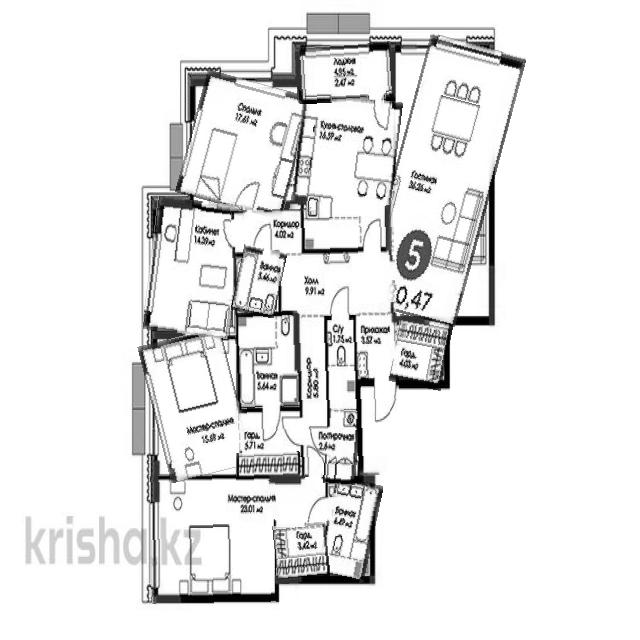balcony: (296, 42, 393, 103)
bathroom: (237, 310, 300, 408), (320, 478, 379, 582), (234, 246, 284, 317), (324, 408, 360, 484), (325, 319, 357, 366)
hallway: (232, 209, 399, 477)
kitchen: (292, 90, 402, 258)
living_room: (376, 36, 509, 323), (183, 75, 307, 214), (150, 474, 275, 603), (145, 330, 246, 479), (192, 81, 300, 207), (146, 198, 242, 337)
other: (391, 317, 451, 389), (274, 522, 329, 583), (237, 452, 300, 480)
